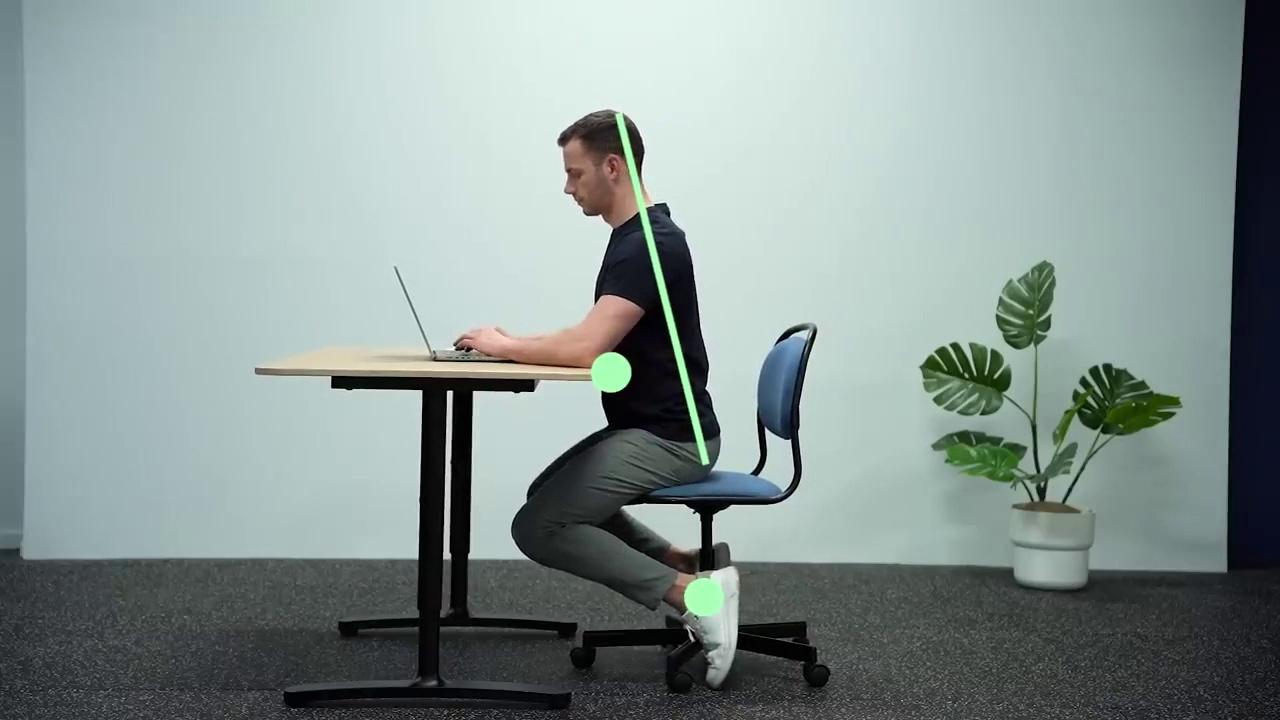GoodPosture: (513, 112, 739, 688)
